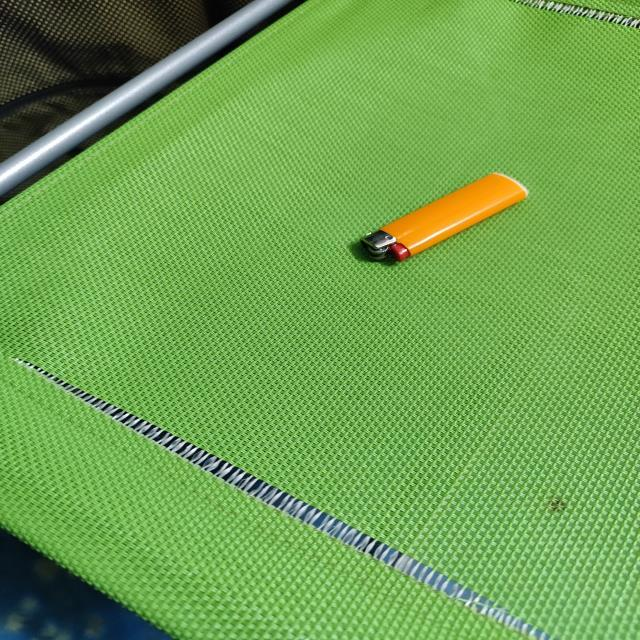lighter: (361, 173, 527, 261)
